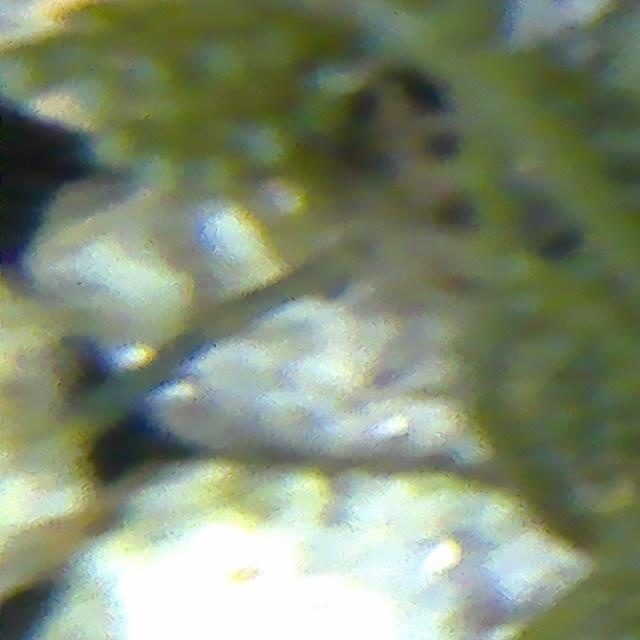SeaGrape: (195, 32, 256, 95)
